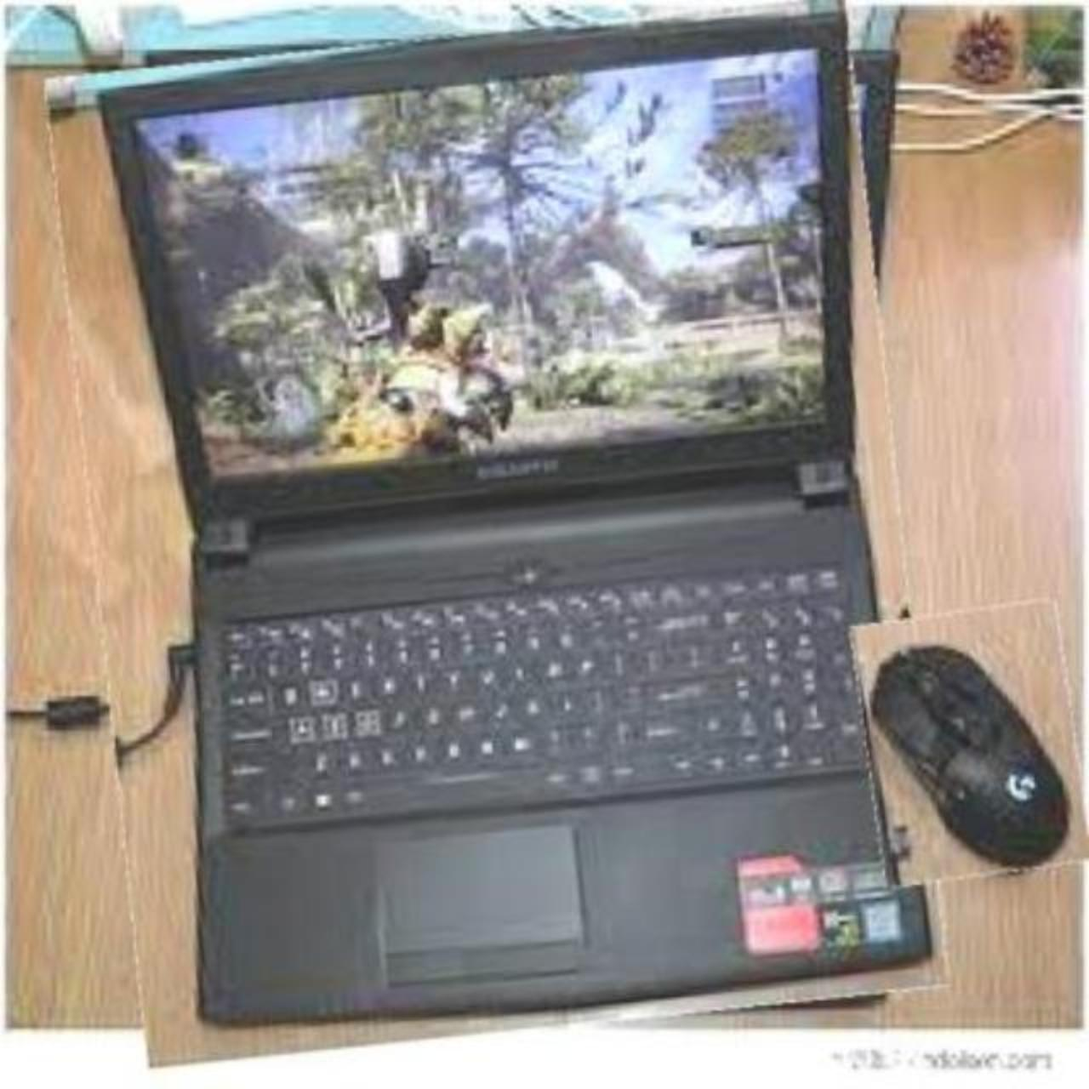laptop: (69, 16, 925, 1049)
